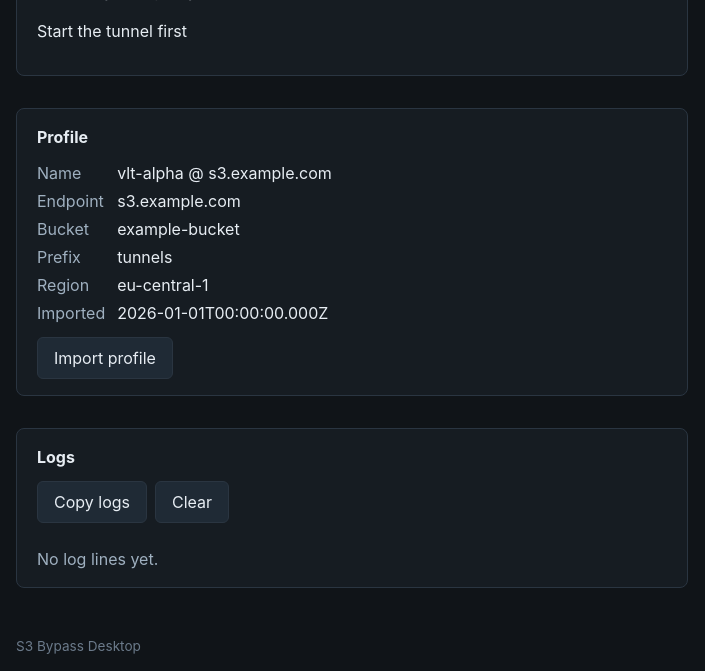
profile re-import view — the UI shows which profile is active (AC-01.7) › profileImport.reimport.replacesProfileAndShowsActiveName
(page scrolled)
Expected: the text "vlt-alpha @ s3.example.com" is shown, [117,162,332,182]
Click the button "Import profile".
click(105, 358)  # box [37,336,173,378]
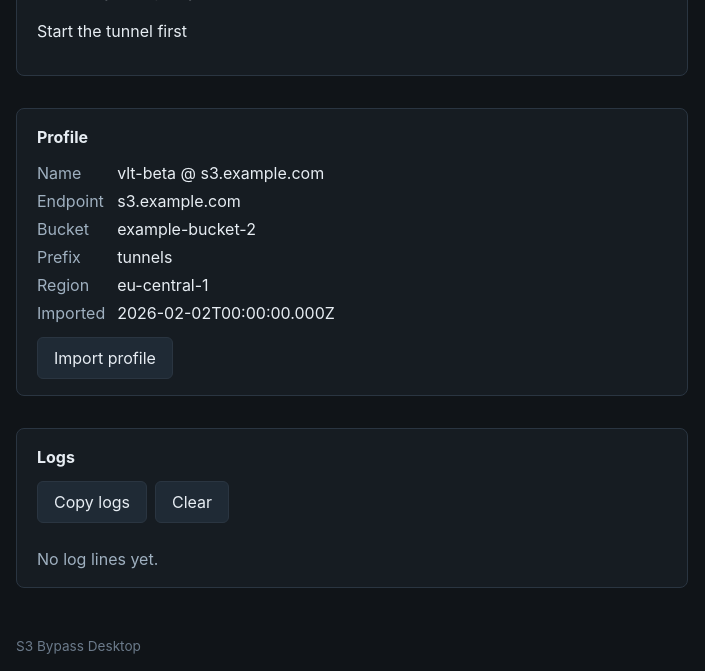
Now the text "vlt-beta @ s3.example.com" is shown, box [117,162,324,182]
